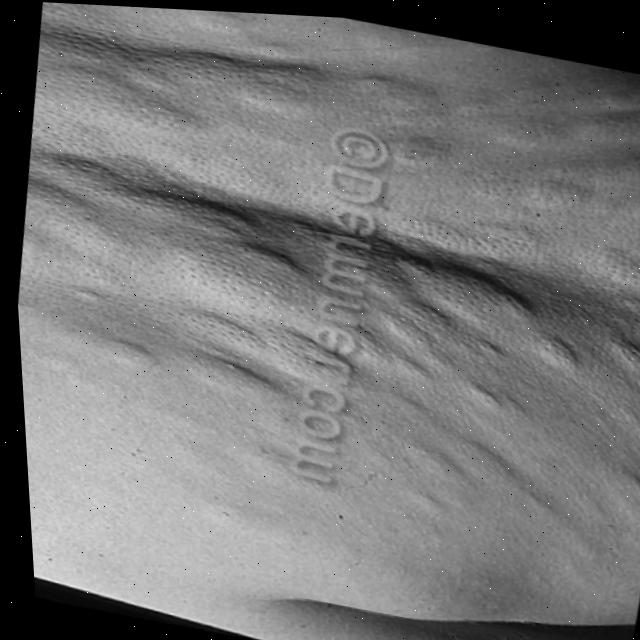Eczema: (2, 28, 620, 504)
